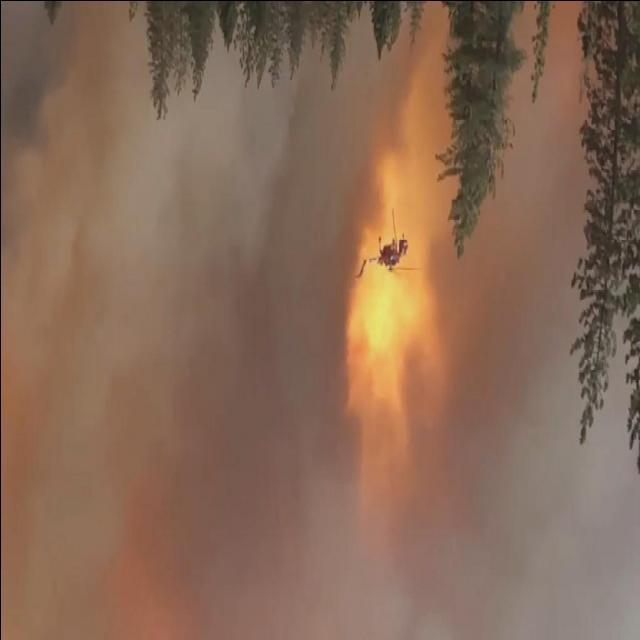Fire: (346, 100, 446, 521)
